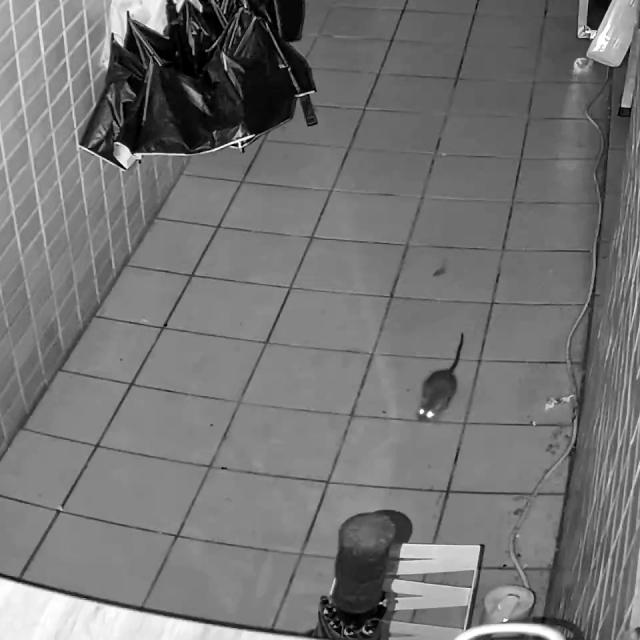rat: (417, 332, 465, 424)
